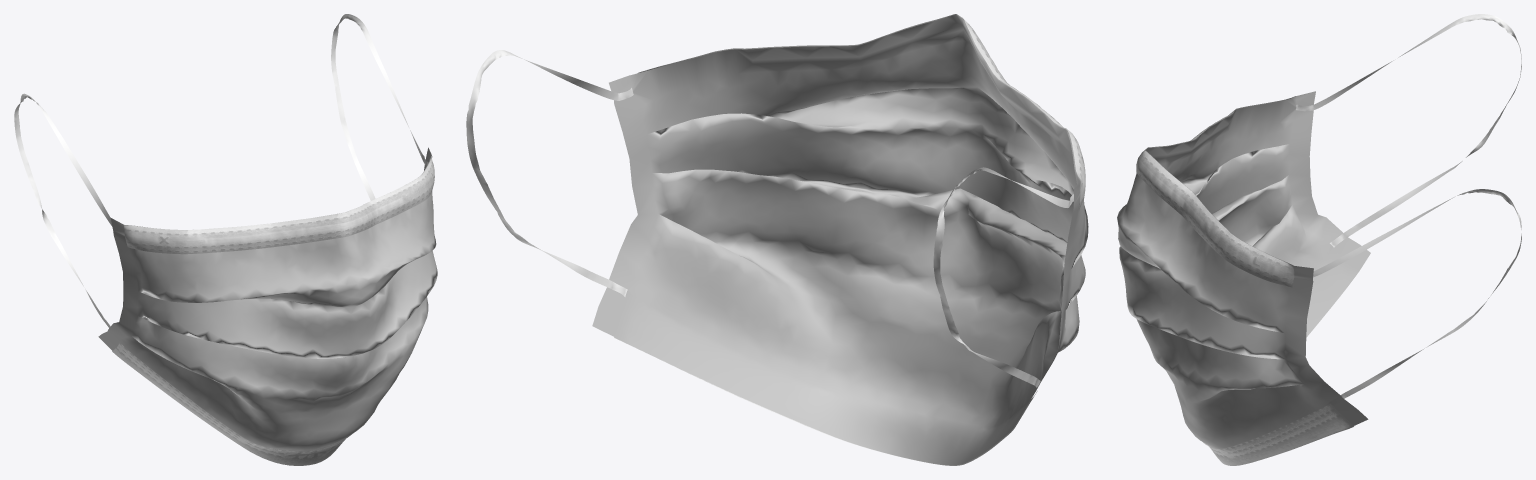
Rendered from MASK.fbx.
3 views of the same model, side by side, from view 1: azimuth 30°, elevation 25°; view 2: azimuth 150°, elevation 25°; view 3: azimuth 270°, elevation 25° (orthographic). The views are drawn at different scales.
Parts seen in each view (by area): view 1: MASK1_Lightweight_Denim; view 2: MASK1_Lightweight_Denim; view 3: MASK1_Lightweight_Denim.
Part boxes in pixels (x1,y1,x2,y2): MASK1_Lightweight_Denim: (14,14,437,465); MASK1_Lightweight_Denim: (466,14,1088,465); MASK1_Lightweight_Denim: (1117,14,1521,465).
Bounding box in the file's own units: 1576 × 1481 × 1533.
